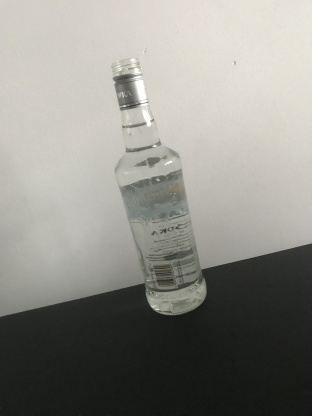nakretka: (109, 53, 150, 113)
